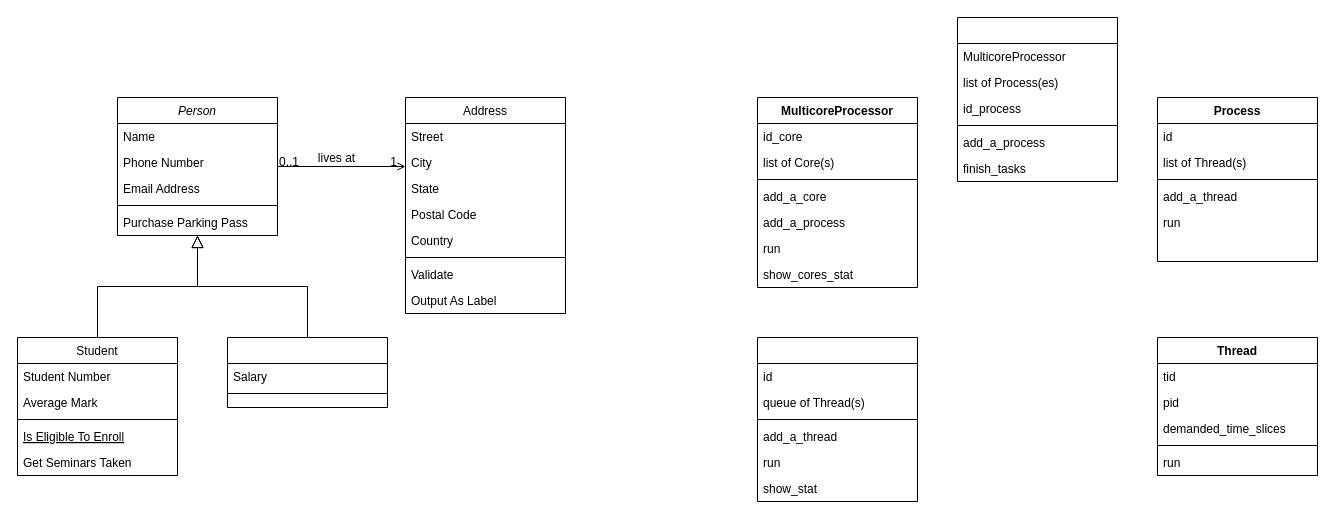
The diagram is 1335 pixels wide and 522 high, and some of its shapes have lost their labels. Each missing label, with the box of its shape:
Core: (756, 336, 918, 502)
Professor: (226, 336, 388, 408)
RoundRobinScheduler: (956, 16, 1118, 182)
